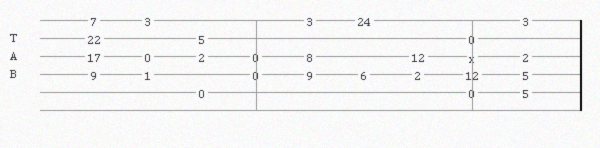0: (144, 50, 155, 62), (198, 86, 209, 98), (252, 68, 263, 80), (252, 50, 263, 62), (468, 32, 479, 44), (468, 86, 479, 98)
1: (144, 68, 155, 80)
12: (411, 50, 429, 62), (465, 68, 483, 80)
17: (87, 50, 105, 62)
2: (198, 50, 209, 62), (414, 68, 425, 80), (522, 50, 533, 62)
22: (87, 32, 105, 44)
24: (357, 14, 375, 26)
3: (144, 14, 155, 26), (306, 14, 317, 26), (522, 14, 533, 26)
5: (198, 32, 209, 44), (522, 68, 533, 80), (522, 86, 533, 98)
6: (360, 68, 371, 80)
7: (90, 14, 101, 26)
8: (306, 50, 317, 62)
9: (90, 68, 101, 80), (306, 68, 317, 80)
x: (469, 51, 479, 61)
